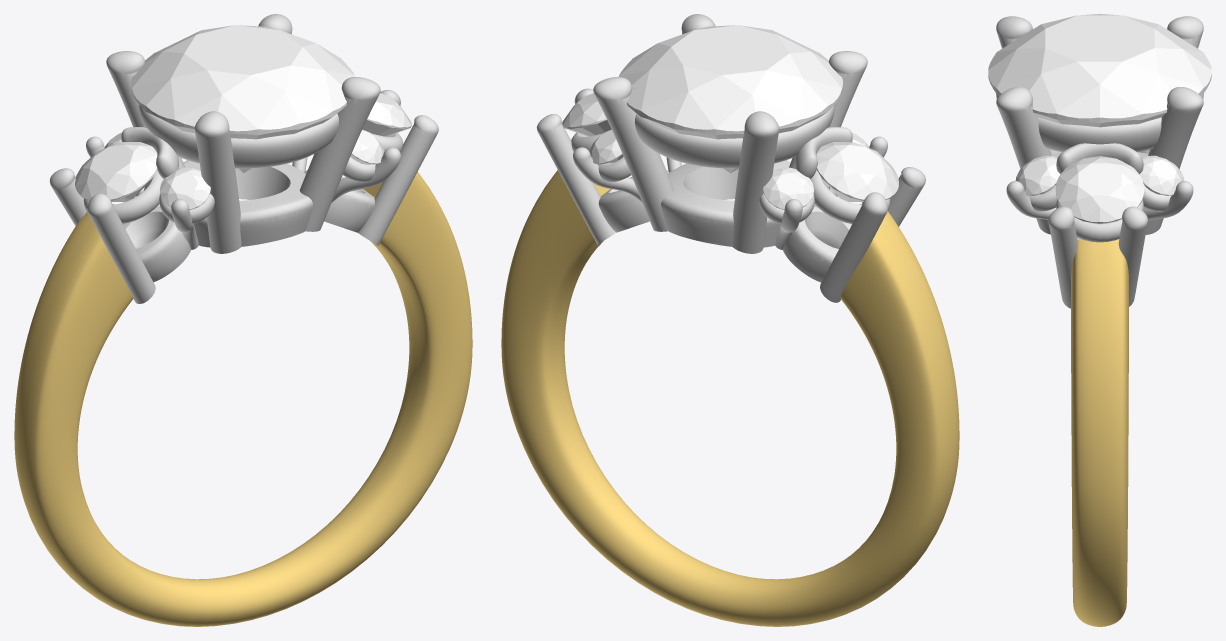
Rendered from michaelLapidus_webgi.glb.
The picture shows the model from 3 angles, left to right: view 1: azimuth 30°, elevation 25°; view 2: azimuth 150°, elevation 25°; view 3: azimuth 270°, elevation 25°; orthographic projection.
Visible parts, largest first — view 1: Michael_Lapidus007, Michael_Lapidus008, Michael_Lapidus031, Michael_Lapidus030, Michael_Lapidus029, Michael_Lapidus024, Michael_Lapidus023; view 2: Michael_Lapidus007, Michael_Lapidus008, Michael_Lapidus031, Michael_Lapidus030, Michael_Lapidus027, Michael_Lapidus024, Michael_Lapidus021; view 3: Michael_Lapidus007, Michael_Lapidus031, Michael_Lapidus008, Michael_Lapidus024, Michael_Lapidus021, Michael_Lapidus023.
Part boxes in pixels (left/top/right/bottom): Michael_Lapidus007: left=14, top=172, right=472, bottom=626; Michael_Lapidus008: left=49, top=14, right=438, bottom=303; Michael_Lapidus031: left=131, top=25, right=355, bottom=173; Michael_Lapidus030: left=75, top=142, right=157, bottom=202; Michael_Lapidus029: left=160, top=167, right=210, bottom=209; Michael_Lapidus024: left=362, top=93, right=411, bottom=136; Michael_Lapidus023: left=350, top=129, right=384, bottom=164; Michael_Lapidus007: left=501, top=170, right=959, bottom=626; Michael_Lapidus008: left=536, top=14, right=925, bottom=302; Michael_Lapidus031: left=618, top=25, right=842, bottom=173; Michael_Lapidus030: left=816, top=142, right=898, bottom=202; Michael_Lapidus027: left=763, top=167, right=813, bottom=209; Michael_Lapidus024: left=562, top=93, right=611, bottom=136; Michael_Lapidus021: left=589, top=129, right=623, bottom=164; Michael_Lapidus007: left=1071, top=239, right=1128, bottom=626; Michael_Lapidus031: left=988, top=14, right=1211, bottom=127; Michael_Lapidus008: left=996, top=16, right=1203, bottom=308; Michael_Lapidus024: left=1055, top=156, right=1144, bottom=223; Michael_Lapidus021: left=1139, top=155, right=1184, bottom=195; Michael_Lapidus023: left=1015, top=155, right=1060, bottom=195.
Size of the model in its own units: 2.44 by 2.98 by 1.07.
